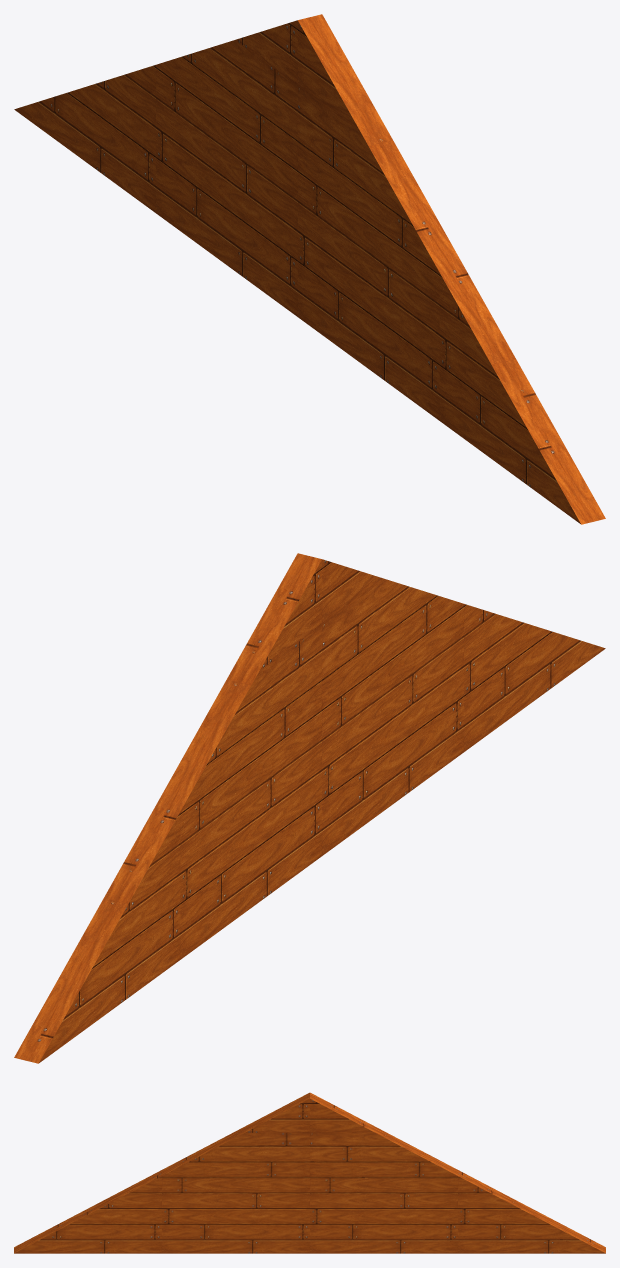
The model's file is Roof_GableEnd_4m.fbx.
3 renders of one model, top to bottom at view 1: azimuth 30°, elevation 25°; view 2: azimuth 150°, elevation 25°; view 3: azimuth 270°, elevation 25°, orthographic. The views are drawn at different scales.
Visible parts, largest first — view 1: Roof_GableEnd_4m; view 2: Roof_GableEnd_4m; view 3: Roof_GableEnd_4m.
Boxes of the visible parts, <box> form: Roof_GableEnd_4m: <box>14,14,605,524</box>; Roof_GableEnd_4m: <box>14,553,605,1063</box>; Roof_GableEnd_4m: <box>14,1092,605,1253</box>.
Size of the model in its own units: 0.1 by 1.15 by 4.
